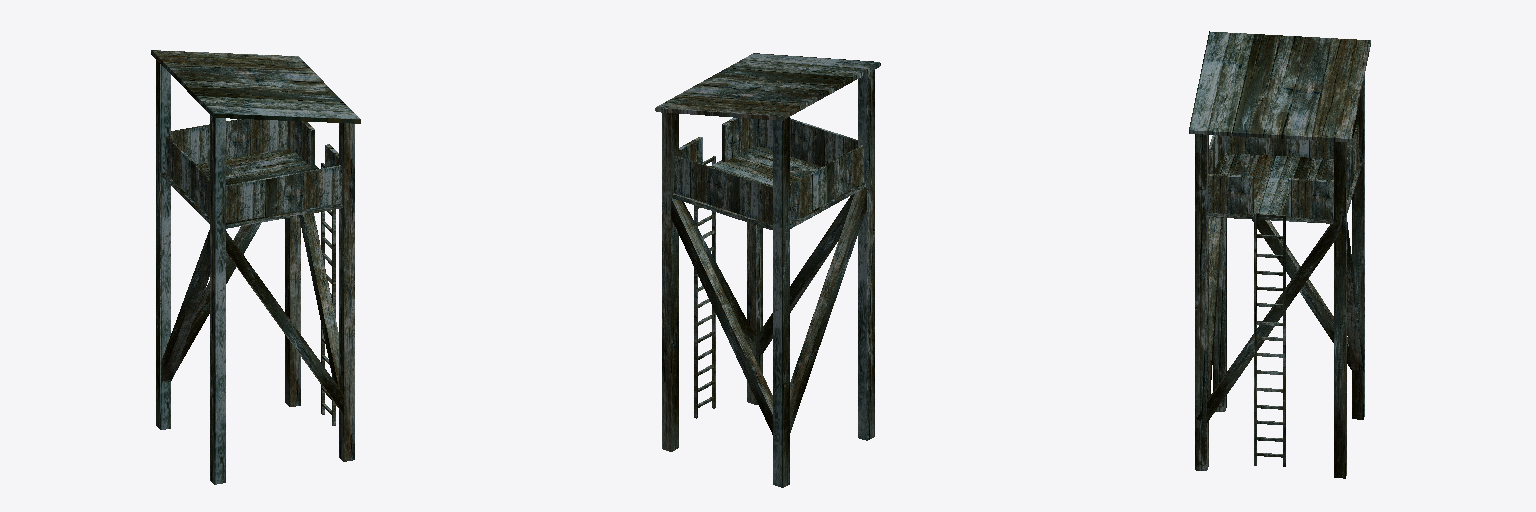
3 views of the same model, side by side, from view 1: azimuth 30°, elevation 25°; view 2: azimuth 150°, elevation 25°; view 3: azimuth 270°, elevation 25° (orthographic).
Bounding box in the file's own units: 52.78 × 121 × 53.51.
1 materials, 1 textured.